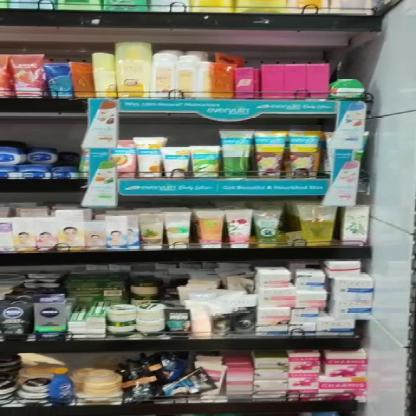EY NAT GLOW ORANGE PEEL OFF AY 90G: (134, 137, 160, 178), (163, 146, 195, 176)
EY RJ CUCUMBER ALOEVERA FACEPAK50G: (195, 147, 219, 176)
